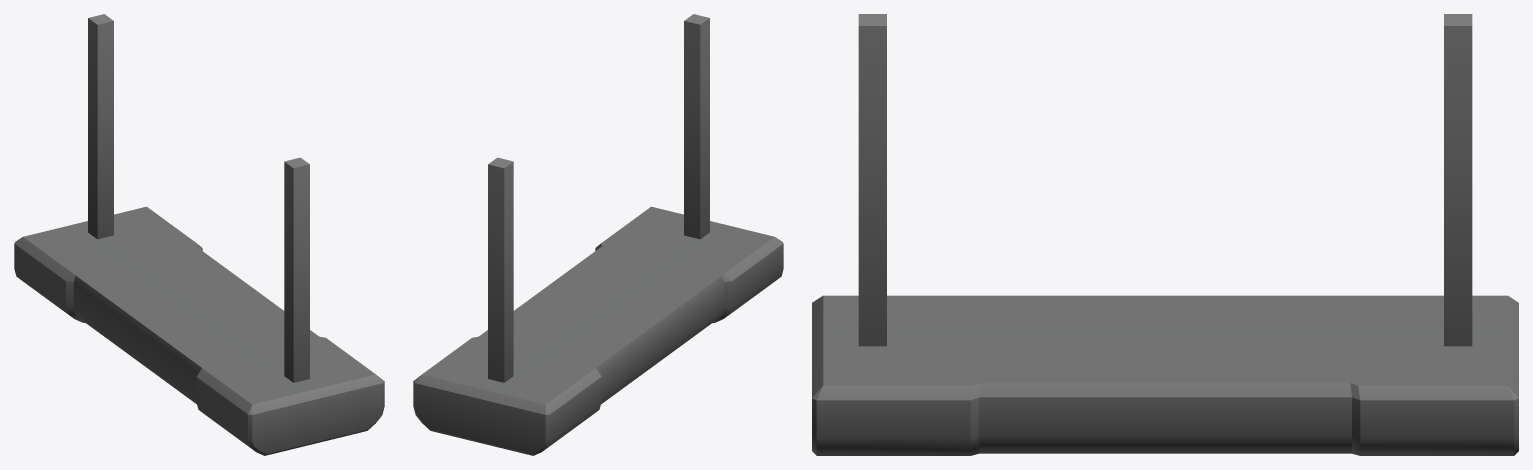
The model's file is Lamp1Big.fbx.
The picture shows the model from 3 angles, left to right: view 1: azimuth 30°, elevation 25°; view 2: azimuth 150°, elevation 25°; view 3: azimuth 270°, elevation 25°; orthographic projection. The views are drawn at different scales.
Parts seen in each view (by area): view 1: Lamp1Big; view 2: Lamp1Big; view 3: Lamp1Big.
Part boxes in pixels (box(x1,y1,x2,y2)): Lamp1Big: box(14, 14, 384, 455); Lamp1Big: box(413, 14, 783, 455); Lamp1Big: box(812, 14, 1518, 455).
Bounding box in the file's own units: 1 × 3 × 1.89.
